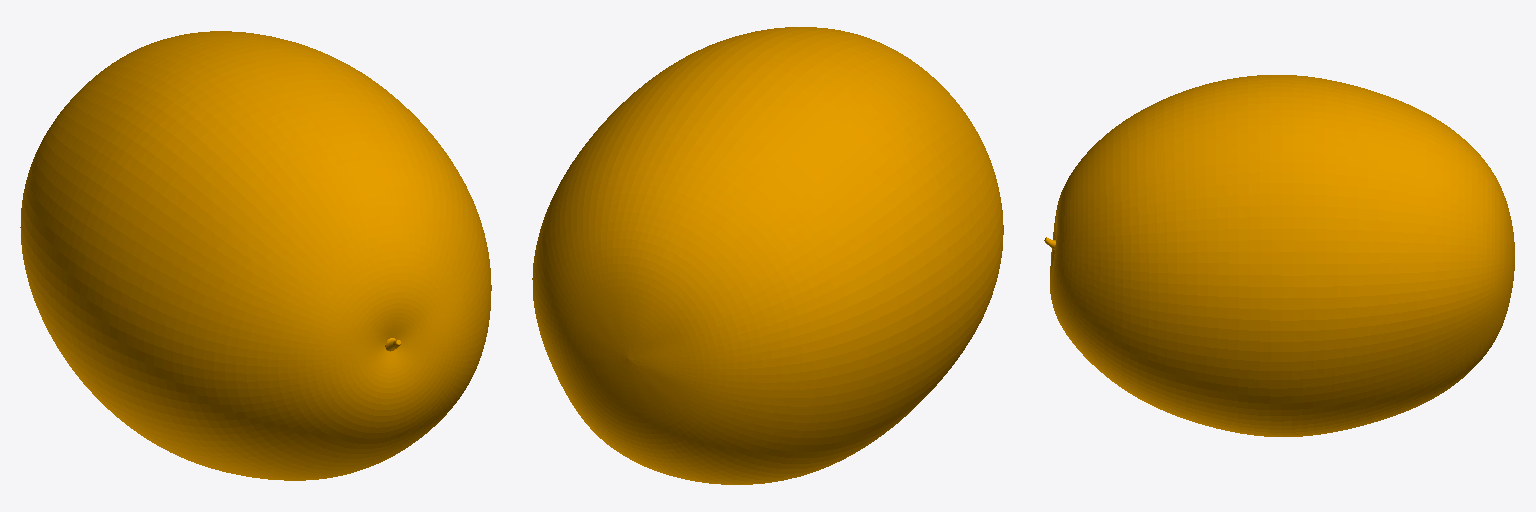
The robot description file, URDF, robot "cube":
<?xml version="1.0" ?>
<robot name="cube">
  <link name="baseLink">
    <inertial>
      <origin rpy="0 0 0" xyz="0 0 0"/>
        <mass value="0.0"/>
        <inertia ixx="0" ixy="0" ixz="0" iyy="0" iyz="0" izz="0"/>
    </inertial>
    <visual>
      <geometry>
        <mesh filename="10211_Watermelon_v1-L3_centered.obj"/>
      </geometry>
    </visual>
  </link>
</robot>

--- Render facts (derived) ---
Views: 3 orthographic renders of the robot side by side, from view 1: azimuth 30°, elevation 25°; view 2: azimuth 150°, elevation 25°; view 3: azimuth 270°, elevation 25°.
Robot: cube — 1 links, 0 joints (none); root link baseLink; default pose: every joint at zero.
Links seen in each view (by area): view 1: baseLink; view 2: baseLink; view 3: baseLink.
Link boxes in pixels (x1,y1,x2,y2): baseLink: (20, 31, 491, 480); baseLink: (532, 27, 1003, 484); baseLink: (1044, 75, 1514, 436).
Size in the robot's own frame: 19.71 by 26.26 by 20.17 metres.
1 mesh visuals loaded from 1 distinct referenced files (1 OBJ).